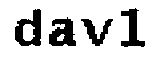1: (116, 4, 148, 52)
a: (48, 15, 79, 53)
d: (12, 5, 44, 51)
v: (80, 16, 113, 50)
